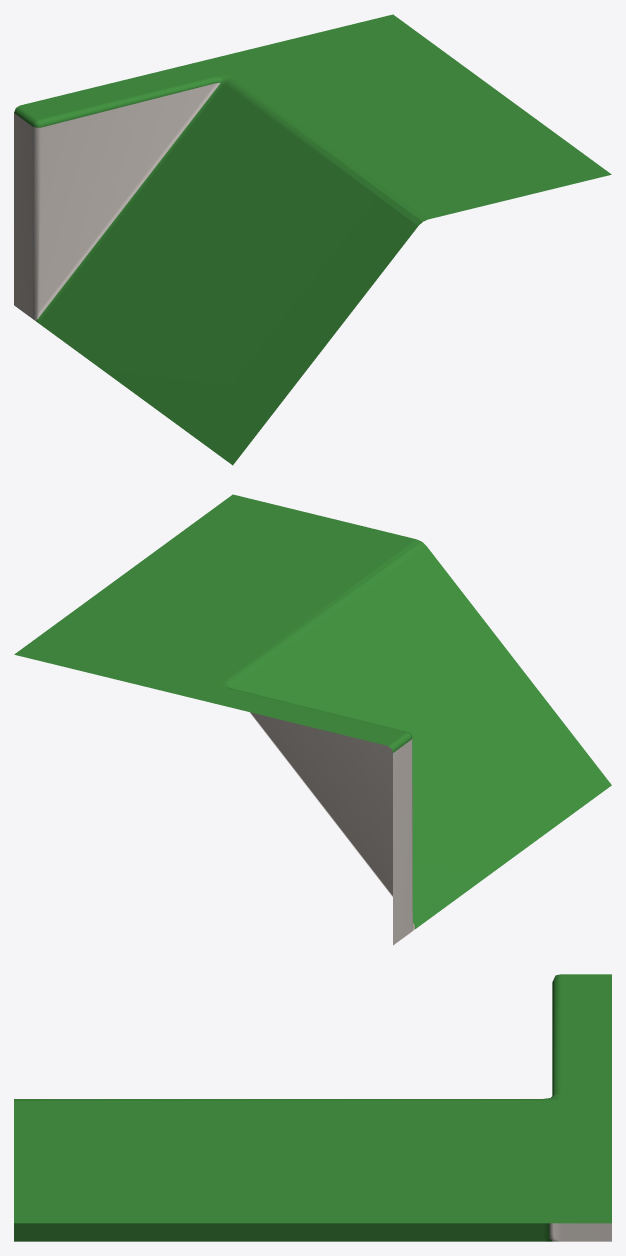
File: cliff_ramp_end_l.fbx
3 renders of one model, top to bottom at view 1: azimuth 30°, elevation 25°; view 2: azimuth 150°, elevation 25°; view 3: azimuth 270°, elevation 25°, orthographic. The views are drawn at different scales.
Parts seen in each view (by area): view 1: Cliff_Stair; view 2: Cliff_Stair; view 3: Cliff_Stair.
Part boxes in pixels (x1,y1,x2,y2): Cliff_Stair: [14, 14, 611, 465]; Cliff_Stair: [14, 494, 611, 945]; Cliff_Stair: [14, 974, 611, 1241].
Size of the model in its own units: 200 by 100 by 200.
